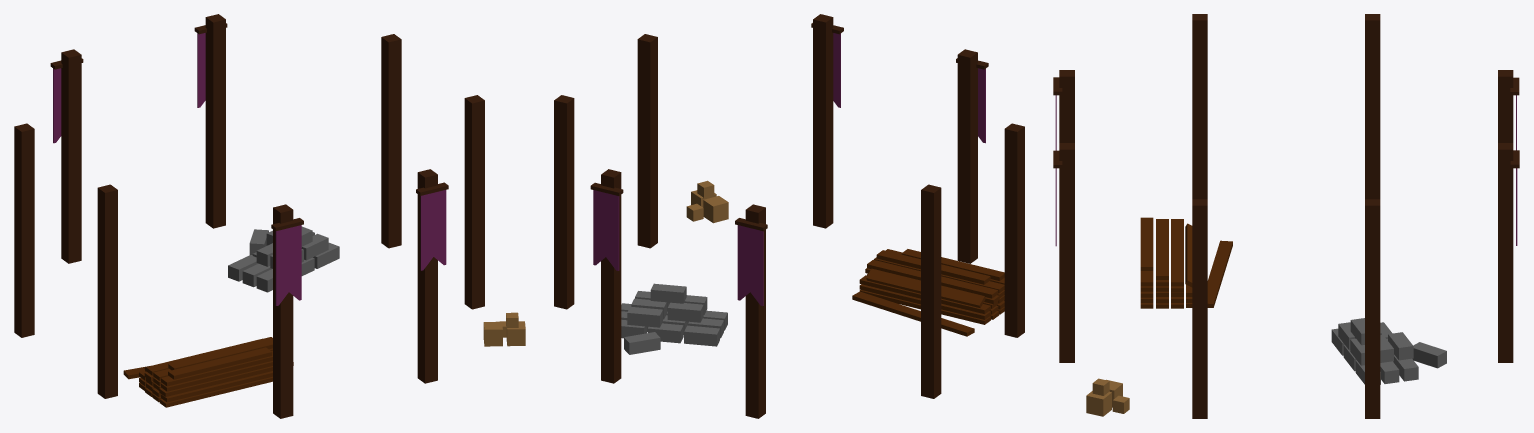
File: LibraryBuildPhase1v1.fbx
The picture shows the model from 3 angles, left to right: view 1: azimuth 30°, elevation 25°; view 2: azimuth 150°, elevation 25°; view 3: azimuth 270°, elevation 25°; orthographic projection. The views are drawn at different scales.
Visible parts, largest first — view 1: Cube.2582; view 2: Cube.2582; view 3: Cube.2582.
Part boxes in pixels (x1,y1,x2,y2): Cube.2582: (14,14,525,418); Cube.2582: (554,14,1024,418); Cube.2582: (1053,14,1519,418).
Size of the model in its own units: 200 by 104 by 205.
